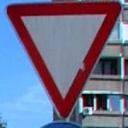preferencia: (6, 1, 126, 121)
